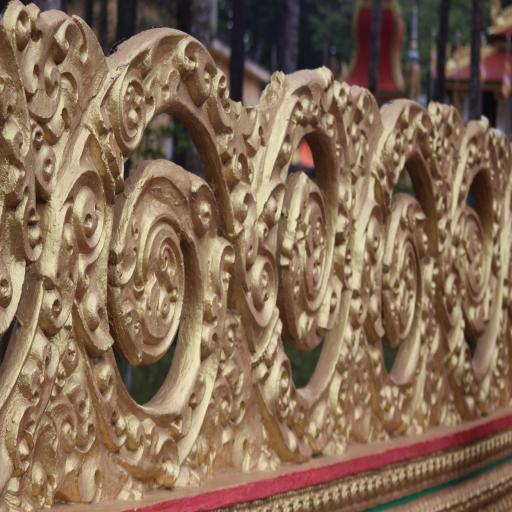la: (61, 26, 241, 500), (242, 59, 372, 469), (0, 0, 65, 512), (372, 98, 453, 448), (455, 115, 512, 422)
